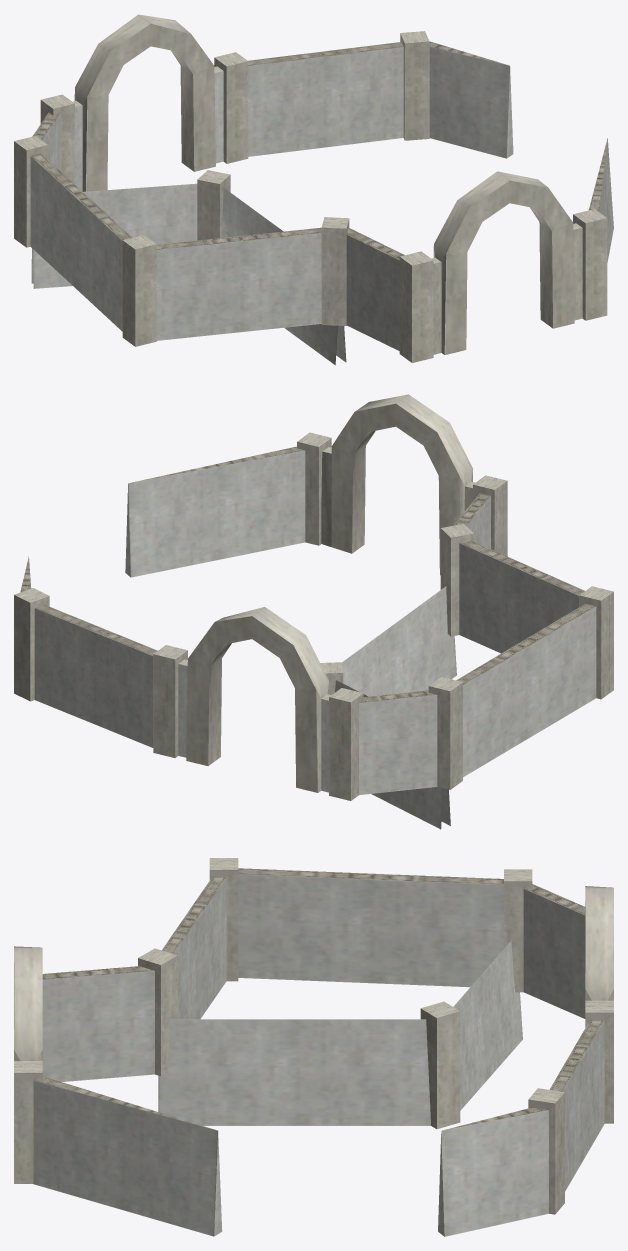
The model's file is poi_corl_farm_32x32_s02_l1.fbx.
3 views of the same model, one above another, from view 1: azimuth 30°, elevation 25°; view 2: azimuth 150°, elevation 25°; view 3: azimuth 270°, elevation 25° (orthographic). The views are drawn at different scales.
Parts seen in each view (by area): view 1: mesh_node; view 2: mesh_node; view 3: mesh_node.
Part boxes in pixels (x1,y1,x2,y2): mesh_node: (14, 14, 613, 365); mesh_node: (14, 394, 613, 829); mesh_node: (14, 858, 613, 1236).
Bounding box in the file's own units: 22.18 × 9 × 21.
1 material, 1 textured.
